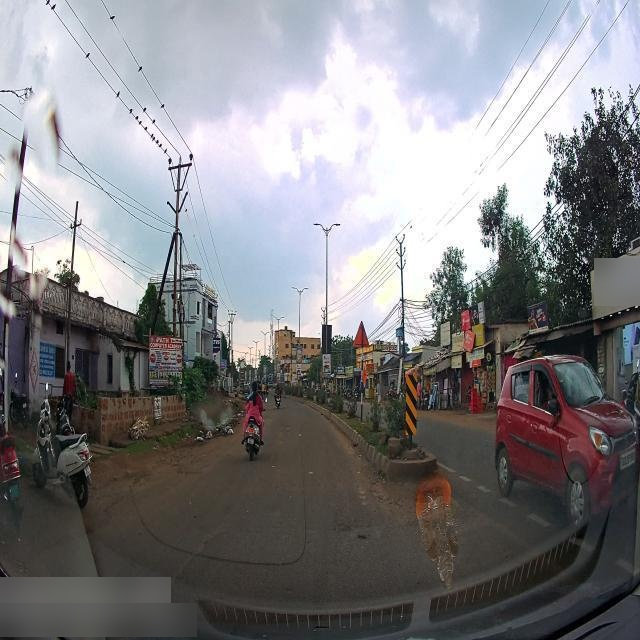pothole: (328, 514, 352, 538), (356, 526, 368, 541)
